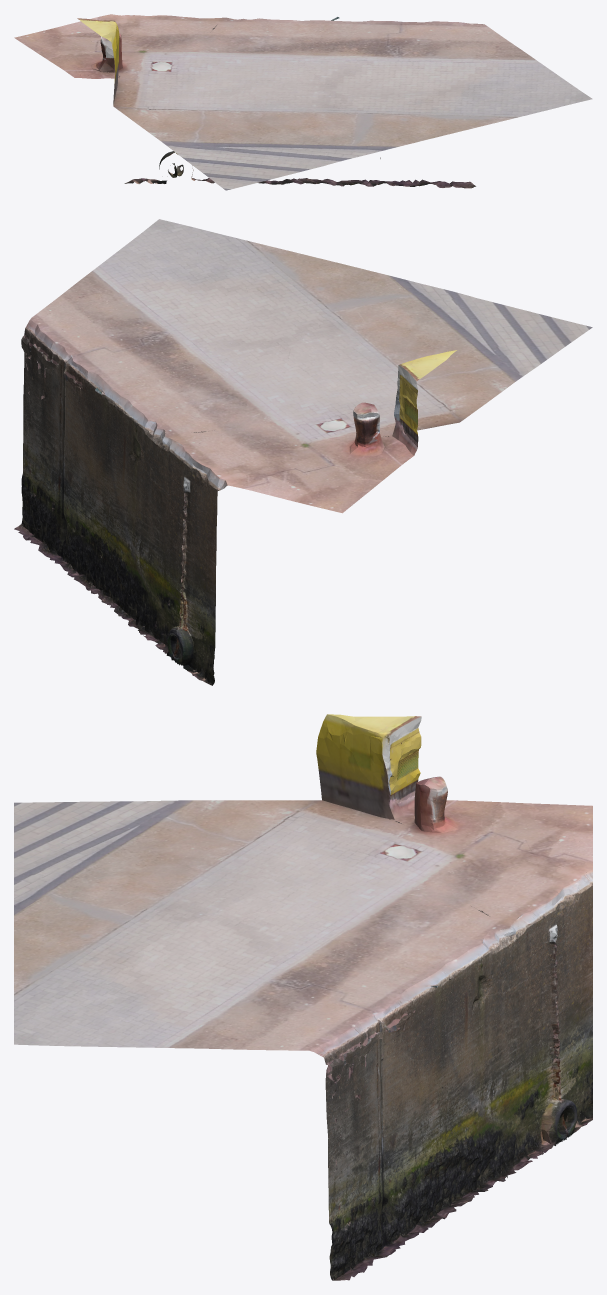
The picture shows the model from 3 angles, top to bottom: view 1: azimuth 30°, elevation 25°; view 2: azimuth 150°, elevation 25°; view 3: azimuth 270°, elevation 25°; orthographic projection. The views are drawn at different scales.
Bounding box in the file's own units: 8.36 × 5.24 × 8.36.
3 materials, 3 textured.
